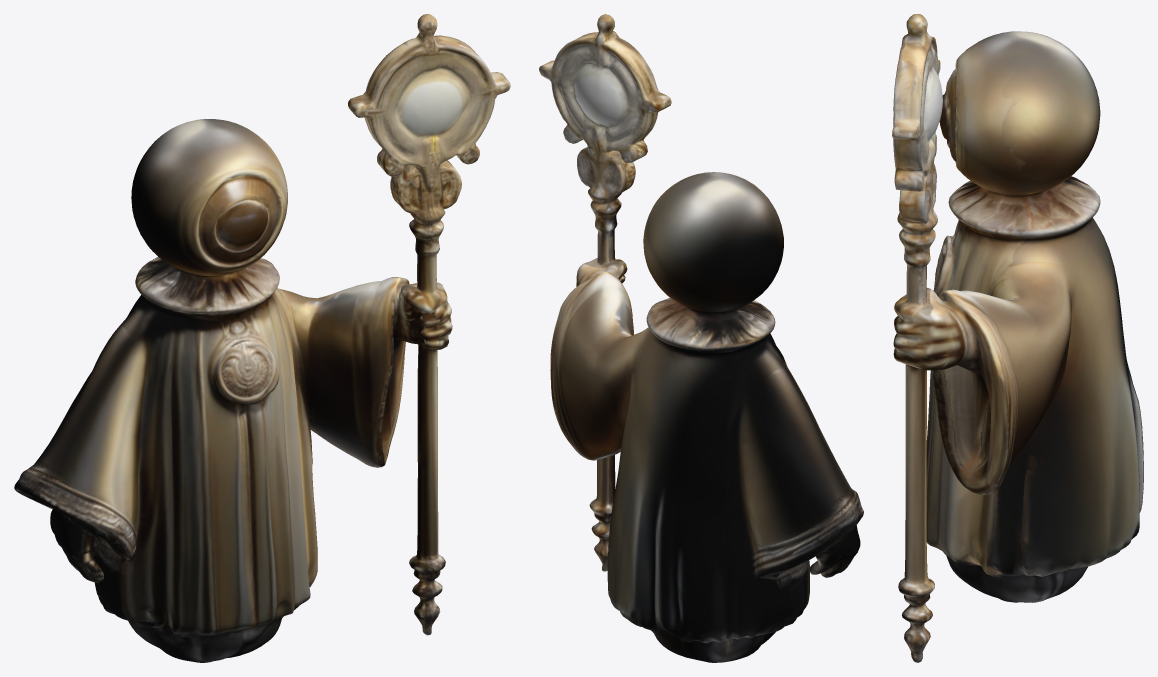
The model's file is Luminary_Sentinel.obj.
3 renders of one model, left to right at view 1: azimuth 30°, elevation 25°; view 2: azimuth 150°, elevation 25°; view 3: azimuth 270°, elevation 25°, orthographic. The views are drawn at different scales.
Visible parts, largest first — view 1: Mesh_0; view 2: Mesh_0; view 3: Mesh_0.
Part boxes in pixels (x1,y1,x2,y2): Mesh_0: (14,14,510,662); Mesh_0: (539,14,863,662); Mesh_0: (892,14,1143,662).
Size of the model in its own units: 1.38 by 2 by 0.6876.
1 material, 1 textured.
